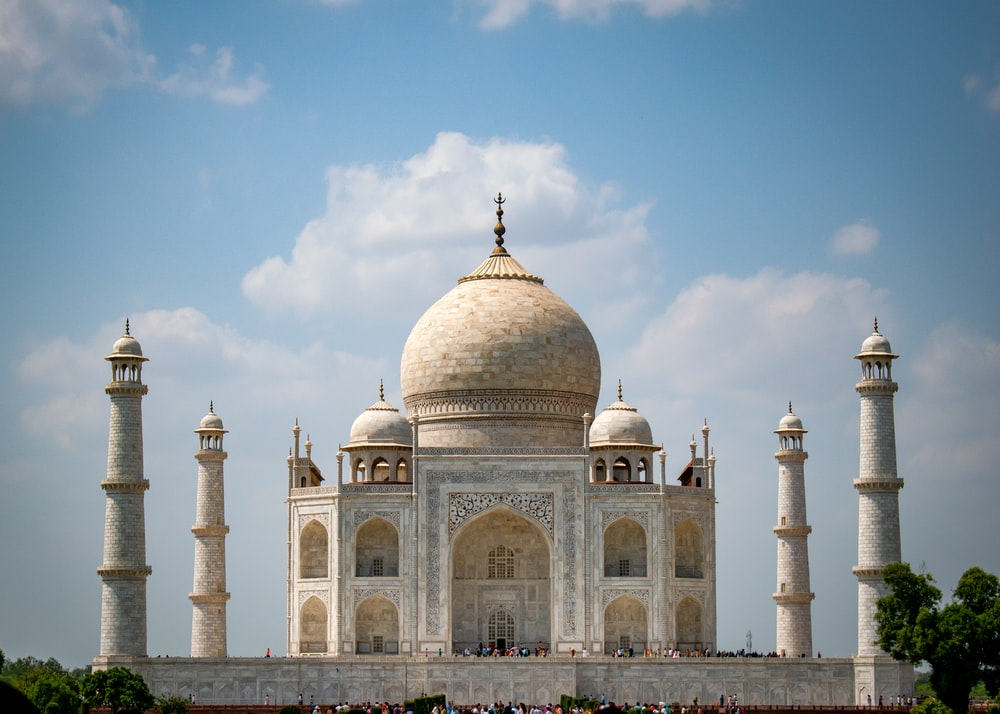Mosque: (78, 188, 933, 666)
